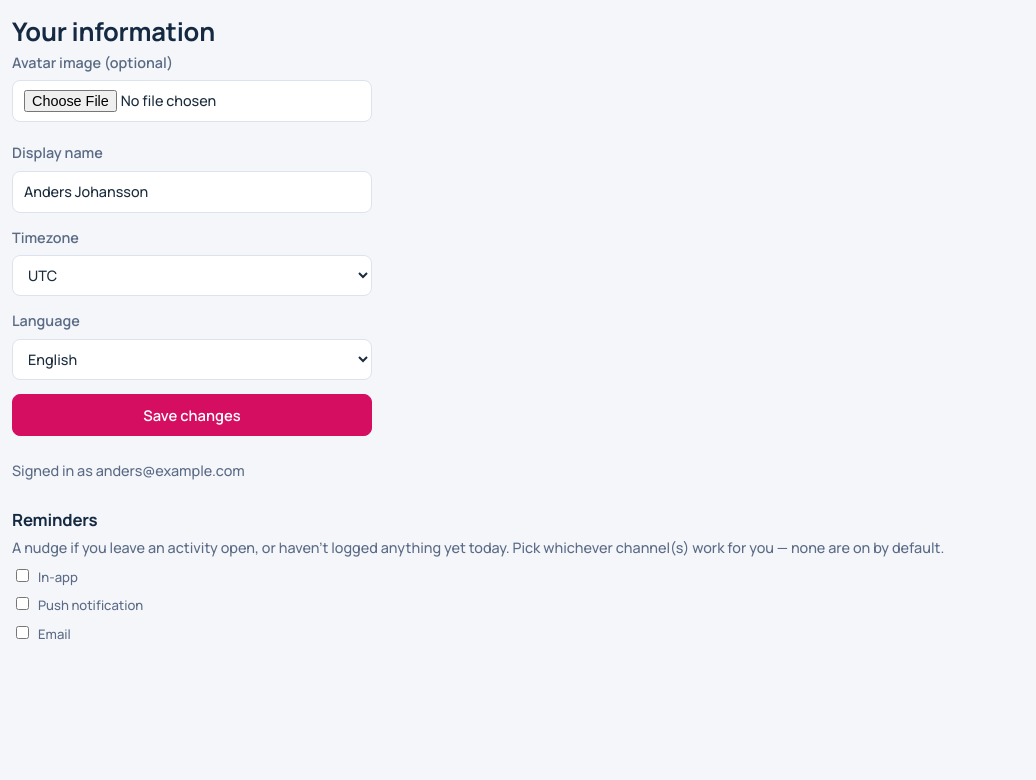
Test: ProfilePage › shows an error message when saving fails
The image size is (1036, 780).
Click the button "Save changes" at (192, 415), box top-left (12, 394), bottom-right (372, 436)
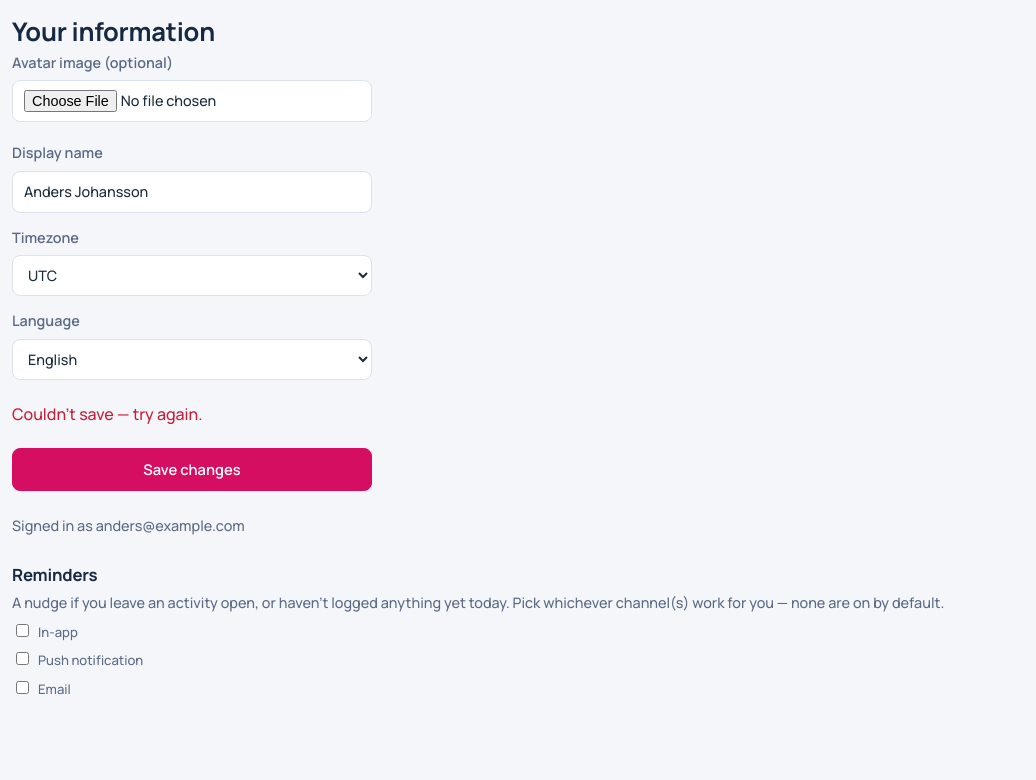
Expected: the text "Couldn't save — try again." is shown, top-left (12, 403), bottom-right (202, 425)
